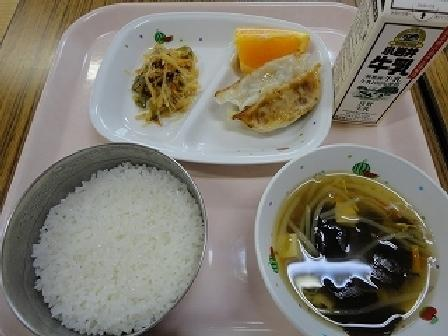Citrus: (228, 19, 309, 71)
Milk: (329, 0, 447, 125)
Rice: (10, 142, 214, 326)
Soups: (261, 157, 445, 335)
salad with sauce: (128, 32, 206, 129)
tushpara-fried: (213, 48, 322, 133)
